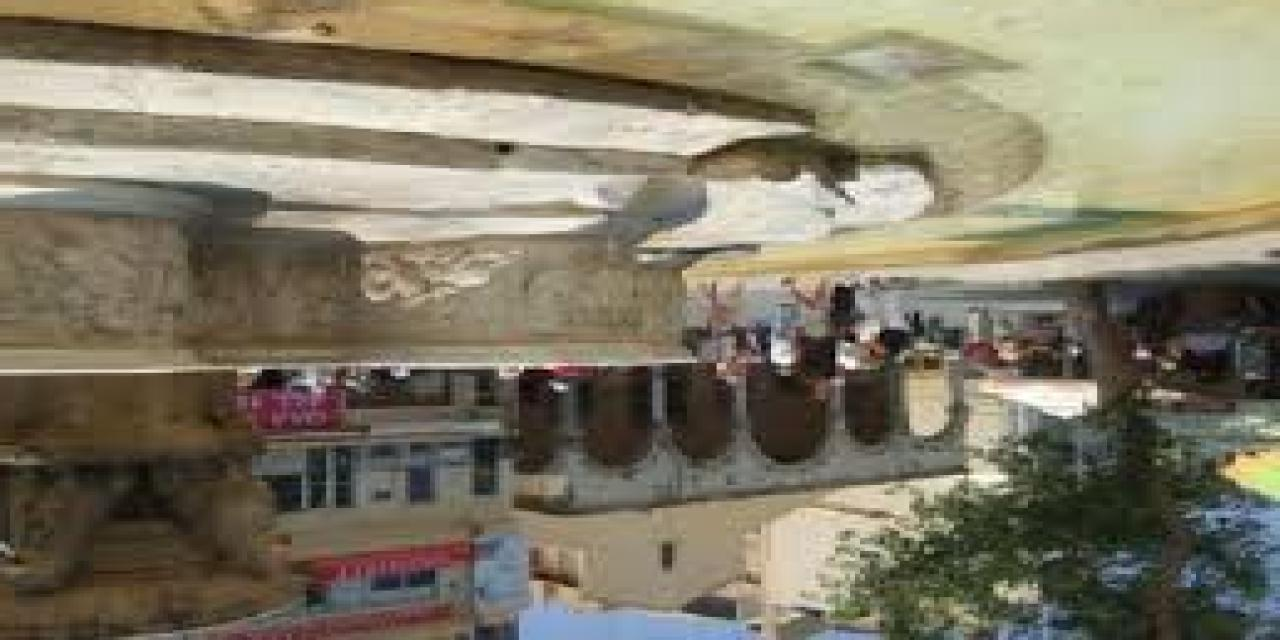Liontaria: (5, 198, 630, 640)
